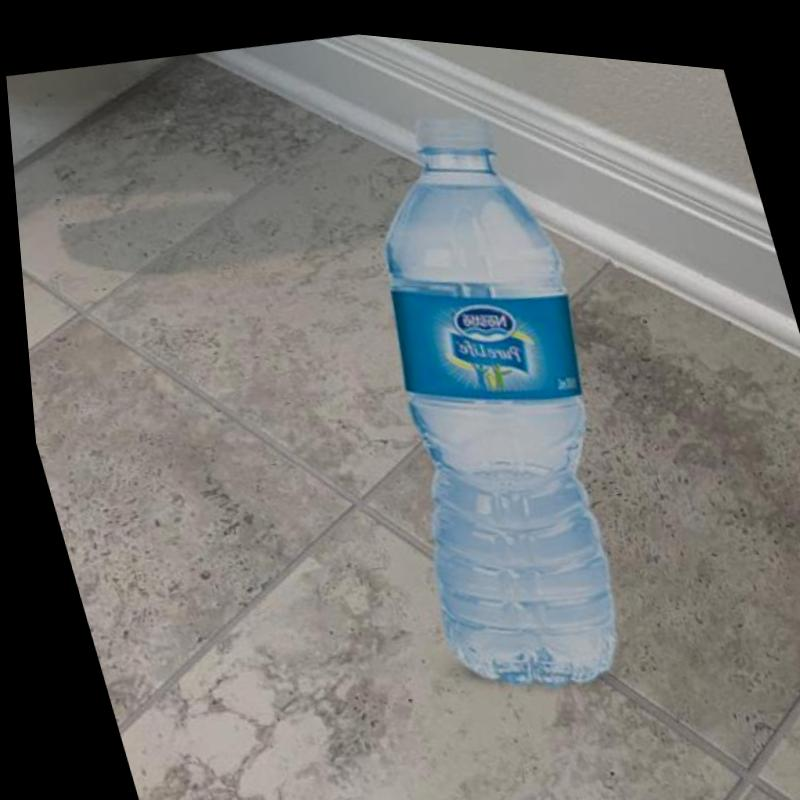botella: (293, 76, 675, 706)
